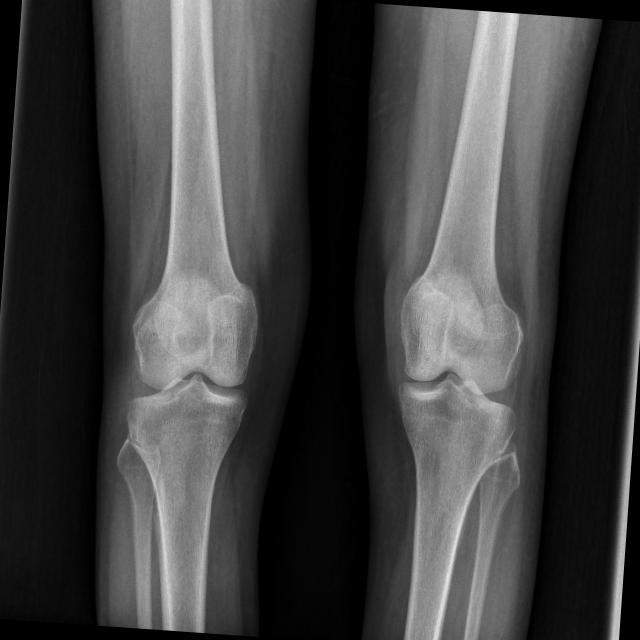Knee: (123, 307, 262, 452), (392, 314, 526, 456)
